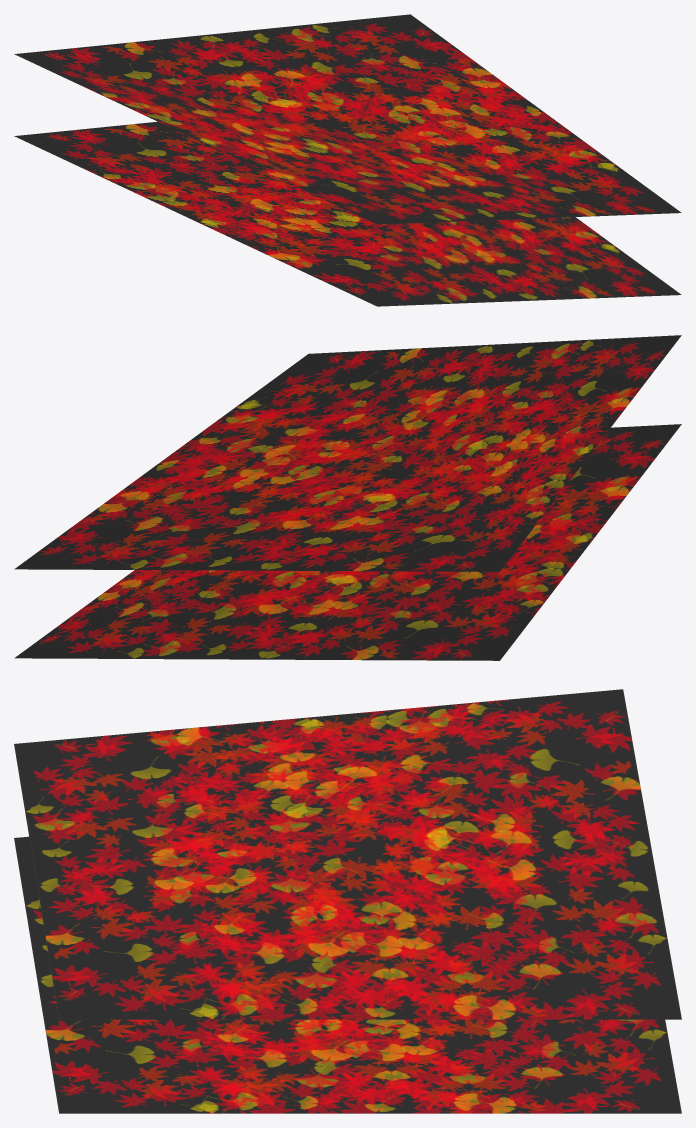
The model's file is OBJ_CourseAki_CurveFloor_1_10.fbx.
3 views of the same model, one above another, from view 1: azimuth 30°, elevation 25°; view 2: azimuth 150°, elevation 25°; view 3: azimuth 270°, elevation 25° (orthographic). The views are drawn at different scales.
Visible parts, largest first — view 1: polySurface37; view 2: polySurface37; view 3: polySurface37.
Boxes of the visible parts, box(x1,y1,x2,y2) form: polySurface37: box(14, 14, 681, 306); polySurface37: box(14, 335, 681, 660); polySurface37: box(14, 689, 681, 1113).
Size of the model in its own units: 5.39 by 2 by 6.44.
1 material, 1 textured.
